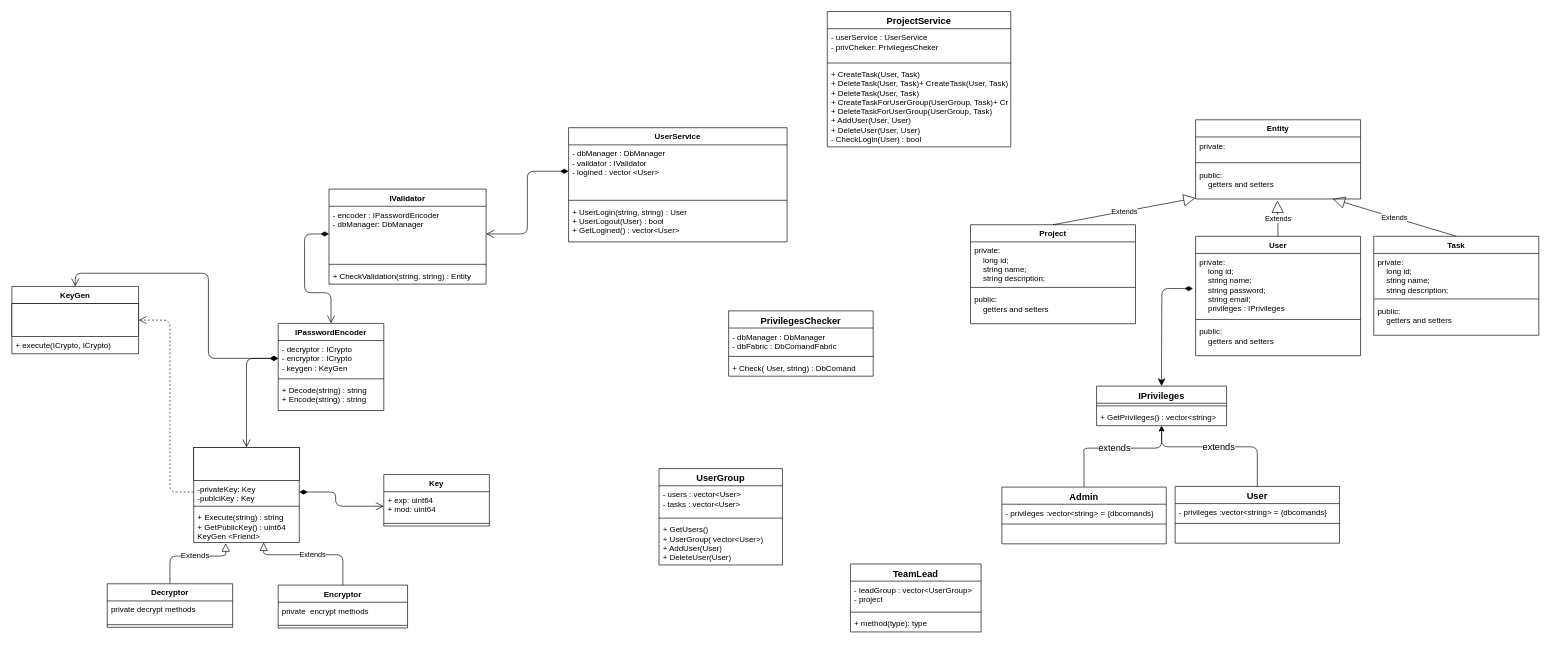
This 1550x645 diagram has some shape labels left out. Here are the shapes that lost their labels. From the top down, the centre of each, then its label:
point (75, 320): -p : uint64 -q : uint64
point (246, 463): «interface» ICrypto
